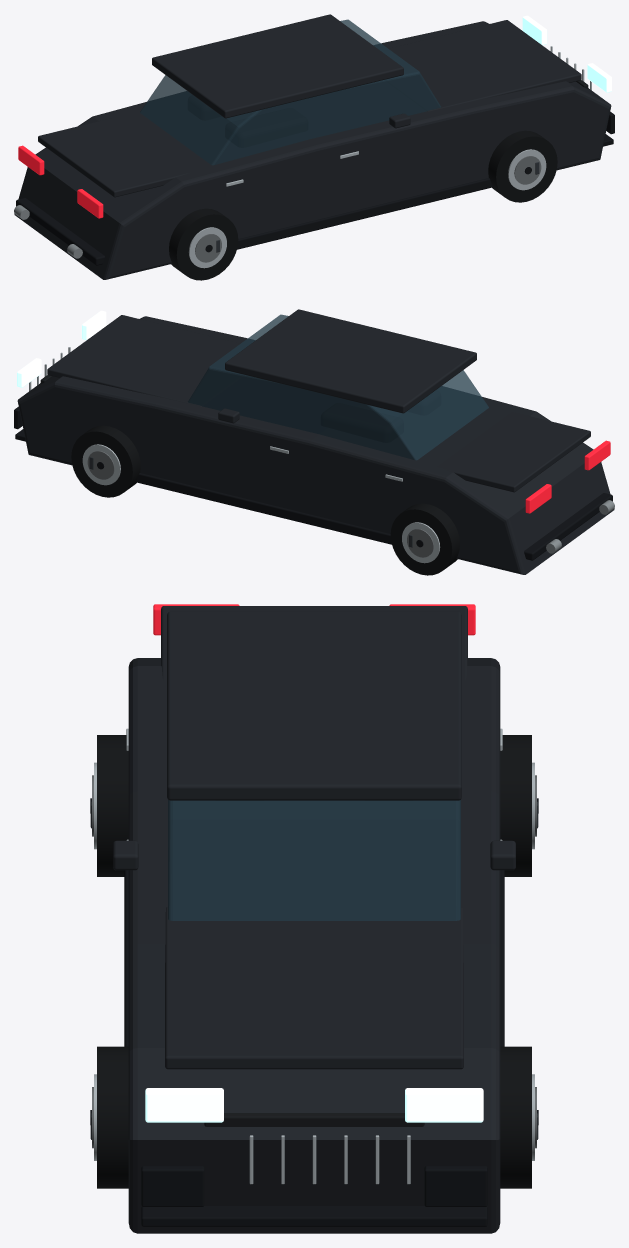
File: rr_phantom_vii.glb
The picture shows the model from 3 angles, top to bottom: view 1: azimuth 30°, elevation 25°; view 2: azimuth 150°, elevation 25°; view 3: azimuth 270°, elevation 25°; orthographic projection. The views are drawn at different scales.
Visible parts, largest first — view 1: sculpted_body, roof, glasshouse, hood_center, rear_deck, side_skirt_1, front_right_wheel_tire, rear_right_wheel_tire, seat_1, rear_diffuser, front_right_wheel_rim, rear_right_wheel_rim (+7 smaller); view 2: sculpted_body, roof, glasshouse, hood_center, rear_deck, side_skirt_-1, front_left_wheel_tire, rear_left_wheel_tire, seat_-1, rear_diffuser, front_left_wheel_rim, rear_left_wheel_rim (+7 smaller); view 3: sculpted_body, roof, hood_center, glasshouse, front_splitter, front_left_wheel_tire, front_right_wheel_tire, rear_left_wheel_tire, rear_right_wheel_tire, headlight_left, headlight_right, front_grille (+5 smaller).
Part boxes in pixels (x1,y1,x2,y2): sculpted_body: (14,21,611,279); roof: (152,14,403,118); glasshouse: (140,19,440,165); hood_center: (382,20,581,111); rear_deck: (38,117,191,197); side_skirt_1: (237,178,492,249); front_right_wheel_tire: (488,130,557,202); rear_right_wheel_tire: (169,208,238,280); seat_1: (225,108,307,147); rear_diffuser: (16,198,104,265); front_right_wheel_rim: (508,149,546,190); rear_right_wheel_rim: (188,227,226,268); sculpted_body: (17,316,614,574); roof: (225,309,476,413); glasshouse: (188,314,488,460); hood_center: (47,315,246,406); rear_deck: (437,412,590,492); side_skirt_-1: (136,473,391,544); front_left_wheel_tire: (71,425,140,497); rear_left_wheel_tire: (390,503,459,575); seat_-1: (321,403,403,442); rear_diffuser: (524,493,612,560); front_left_wheel_rim: (82,444,120,485); rear_left_wheel_rim: (402,522,440,563); sculpted_body: (128,658,500,1233); roof: (167,611,461,800); hood_center: (165,907,463,1069); glasshouse: (168,800,460,920); front_splitter: (141,1206,487,1226); front_left_wheel_tire: (500,1046,531,1188); front_right_wheel_tire: (97,1046,128,1188); rear_left_wheel_tire: (500,735,531,876); rear_right_wheel_tire: (97,735,128,876); headlight_left: (405,1088,483,1122); headlight_right: (145,1088,223,1122); front_grille: (204,1113,424,1126).
Size of the model in its own units: 6.22 by 1.64 by 2.27.
